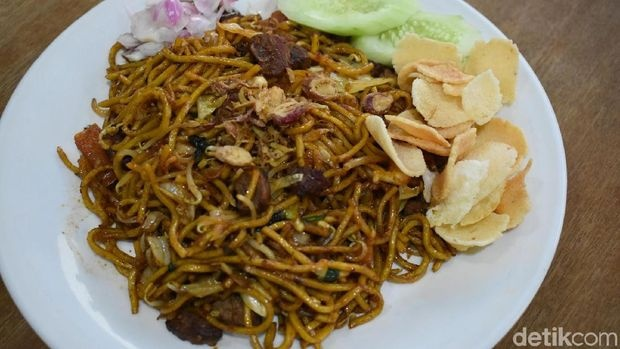mie_aceh: (68, 33, 462, 348)
